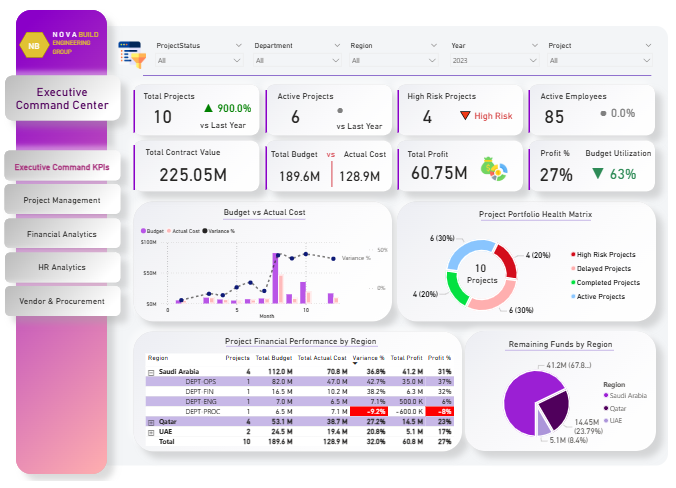

This screenshot's page, from the dashboard's own definition file:
{"tool":"powerbi","page":{"name":"Executive Command KPIs","canvas":[1380,980],"ordinal":0},"visuals":[{"type":"shape","box":[63.9,68.1,61.9,51.5],"z":0,"group":"g3"},{"type":"cardVisual","fields":{"Data":["Measures Table.Total Projects"]},"box":[287.2,174.4,125.6,100],"z":0},{"type":"cardVisual","title":"Projects","fields":{"Data":["Measures Table.Total Projects"]},"box":[946.8,501.3,81,58.2],"z":0,"group":"g1"},{"type":"textbox","box":[74.2,80.4,40.2,35.1],"z":1000,"group":"g3"},{"type":"slicer","fields":{"Values":["DimDate.Year"]},"box":[916,83,198.9,59.1],"z":1000},{"type":"textbox","box":[946.8,548.1,89.8,34.8],"z":1000,"group":"g1"},{"type":"textbox","box":[125.8,58.8,121.6,60.8],"z":2000,"group":"g3"},{"type":"cardVisual","fields":{"Data":["Measures Table.YoY Project Growth Display"]},"box":[413.3,174.7,149.4,83.1],"z":2000},{"type":"textbox","box":[308.3,180.2,199,35.4],"z":3000},{"type":"textbox","box":[408.2,238.8,128.2,35.3],"z":4000},{"type":"cardVisual","fields":{"Data":["Measures Table.Active Projects"]},"box":[552.9,174.1,130.6,100],"z":5000},{"type":"cardVisual","fields":{"Data":["Measures Table.YoY Active Projects Growth Display"]},"box":[681.7,179.5,132.5,77.1],"z":6000,"group":"g2"},{"type":"textbox","box":[575,180.2,124,35.4],"z":6000},{"type":"cardVisual","fields":{"Data":["Measures Table.High Risk Projects"]},"box":[816.5,174.1,130.6,100],"z":7000},{"type":"cardVisual","fields":{"Data":["Measures Table.High Risk Projects Display"]},"box":[926,191.7,144.8,75],"z":8000},{"type":"textbox","box":[683.6,239,122.1,32.4],"z":8000,"group":"g2"},{"type":"textbox","box":[835.4,180.2,197.9,35.4],"z":9000},{"type":"cardVisual","fields":{"Data":["Measures Table.Active Employees"]},"box":[1078.2,174.4,114.1,100],"z":10000},{"type":"cardVisual","fields":{"Data":["Measures Table.YoY Employee Growth Display"]},"box":[1207.1,182.4,123.5,84.7],"z":11000},{"type":"textbox","box":[1102.1,180.2,152.1,35.4],"z":12000},{"type":"cardVisual","fields":{"Data":["Measures Table.Total Contract Value"]},"box":[287.5,284.4,249,105.2],"z":13000},{"type":"textbox","box":[312.5,292.7,224,33.3],"z":14000},{"type":"cardVisual","fields":{"Data":["Measures Table.Total Actual Cost"]},"box":[675.3,292.9,137.6,96.5],"z":15000},{"type":"textbox","box":[554.1,295.3,258.8,30.6],"z":16000},{"type":"cardVisual","fields":{"Data":["Measures Table.Project Profit"]},"box":[816.5,292.9,258.8,96.5],"z":17000},{"type":"cardVisual","fields":{"Data":["Measures Table.Profit Margin %"]},"box":[1078.2,292.3,121.8,97.4],"z":18000},{"type":"textbox","box":[836.2,295.7,198.9,30.9],"z":19000},{"type":"textbox","box":[1102.1,294.7,76.6,30.9],"z":20000},{"type":"cardVisual","fields":{"Data":["Measures Table.Total Budget"]},"box":[552.9,292.9,145.9,96.5],"z":21000},{"type":"cardVisual","fields":{"Data":["Measures Table.Project Budget Utilization Display"]},"box":[1183,307.4,141.5,77.7],"z":22000},{"type":"textbox","box":[1192.6,294.7,154.3,30.9],"z":23000},{"type":"slicer","fields":{"Values":["DimRegion.Region"]},"box":[714.9,83,198.9,59.1],"z":24000},{"type":"donutChart","fields":{"Y":["Measures Table.High Risk Projects","Measures Table.Delayed Projects","Measures Table.Completed Projects","Measures Table.Active Projects"]},"box":[807.6,453.2,526.6,200],"z":25000},{"type":"group","id":"g1","title":"Group 1","box":[946.8,501.3,88.6,81],"z":26000},{"type":"lineClusteredColumnComboChart","fields":{"Category":["DimDate.Month"],"Y":["Measures Table.Total Budget","Measures Table.Total Actual Cost"],"Y2":["Measures Table.Variance %"]},"box":[301.1,445.6,504.4,200],"z":27000},{"type":"pivotTable","fields":{"Rows":["DimRegion.Region","DimProjects.DepartmentID"],"Values":["Measures Table.Total Projects","Measures Table.Total Budget","Measures Table.Total Actual Cost","Measures Table.Variance %","Measures Table.Project Profit","Measures Table.Profit Margin %"]},"box":[311.1,705.1,634.3,202],"z":28000},{"type":"pieChart","fields":{"Category":["DimRegion.Region"],"Y":["Measures Table.Budget Remaining"]},"box":[959.6,713.8,374.5,193.6],"z":29000},{"type":"slicer","fields":{"Values":["DimProjects.DepartmentID"]},"box":[521.7,83,197.7,59.1],"z":30000},{"type":"slicer","fields":{"Values":["DimProjects.ProjectStatus"]},"box":[325.1,83,196.6,59.1],"z":31000},{"type":"pageNavigator","box":[34.6,307.7,232.1,329.5],"z":32000},{"type":"textbox","box":[34.4,168.9,232.8,82],"z":33000},{"type":"group","id":"g2","title":"Group 2","box":[681.7,179.5,132.5,91.9],"z":34000},{"type":"shape","box":[681.2,326,15.6,52.1],"z":35000},{"type":"textbox","box":[306.4,412.8,498.9,33],"z":36000},{"type":"textbox","box":[848.1,415.2,498.7,32.9],"z":37000},{"type":"textbox","box":[959.6,676.6,374.5,33],"z":38000},{"type":"textbox","box":[310.6,670.2,635.1,33],"z":39000},{"type":"shape","box":[987.3,417.7,220.3,53.2],"z":40000},{"type":"shape","box":[472.2,415.2,164.6,53.2],"z":41000},{"type":"shape","box":[1036.7,678.5,217.7,53.2],"z":42000},{"type":"shape","box":[477.1,670.6,303.7,53.2],"z":43000},{"type":"slicer","fields":{"Values":["DimProjects.ProjectName"]},"box":[1110.4,83,231.8,59.1],"z":44000},{"type":"image","box":[256.8,83,68.2,64.8],"z":45000},{"type":"group","id":"g3","title":"Group 3","box":[63.9,58.8,183.5,60.8],"z":46000},{"type":"shape","box":[311.7,140,1016.7,30],"z":47000}]}

Visuals, with their boxes on the page's 1380x980 design canvas (x1, y1, x2, y2). These are canvas units, not pixel positions in the 676x488 screenshot, which may show the page scaled, cropped or inside an application window:
shape: bbox=(64, 68, 126, 120)
cardVisual - Measures Table.Total Projects: bbox=(287, 174, 413, 274)
"Projects" cardVisual: bbox=(947, 501, 1028, 560)
textbox: bbox=(74, 80, 114, 116)
slicer - DimDate.Year: bbox=(916, 83, 1115, 142)
textbox: bbox=(947, 548, 1037, 583)
textbox: bbox=(126, 59, 247, 120)
cardVisual - Measures Table.YoY Project Growth Display: bbox=(413, 175, 563, 258)
textbox: bbox=(308, 180, 507, 216)
textbox: bbox=(408, 239, 536, 274)
cardVisual - Measures Table.Active Projects: bbox=(553, 174, 684, 274)
cardVisual - Measures Table.YoY Active Projects Growth Display: bbox=(682, 180, 814, 257)
textbox: bbox=(575, 180, 699, 216)
cardVisual - Measures Table.High Risk Projects: bbox=(816, 174, 947, 274)
cardVisual - Measures Table.High Risk Projects Display: bbox=(926, 192, 1071, 267)
textbox: bbox=(684, 239, 806, 271)
textbox: bbox=(835, 180, 1033, 216)
cardVisual - Measures Table.Active Employees: bbox=(1078, 174, 1192, 274)
cardVisual - Measures Table.YoY Employee Growth Display: bbox=(1207, 182, 1331, 267)
textbox: bbox=(1102, 180, 1254, 216)
cardVisual - Measures Table.Total Contract Value: bbox=(288, 284, 536, 390)
textbox: bbox=(312, 293, 536, 326)
cardVisual - Measures Table.Total Actual Cost: bbox=(675, 293, 813, 389)
textbox: bbox=(554, 295, 813, 326)
cardVisual - Measures Table.Project Profit: bbox=(816, 293, 1075, 389)
cardVisual - Measures Table.Profit Margin %: bbox=(1078, 292, 1200, 390)
textbox: bbox=(836, 296, 1035, 327)
textbox: bbox=(1102, 295, 1179, 326)
cardVisual - Measures Table.Total Budget: bbox=(553, 293, 699, 389)
cardVisual - Measures Table.Project Budget Utilization Display: bbox=(1183, 307, 1324, 385)
textbox: bbox=(1193, 295, 1347, 326)
slicer - DimRegion.Region: bbox=(715, 83, 914, 142)
donutChart - Measures Table.High Risk Projects x Measures Table.Delayed Projects: bbox=(808, 453, 1334, 653)
"Group 1" group: bbox=(947, 501, 1035, 582)
lineClusteredColumnComboChart - DimDate.Month x Measures Table.Total Budget: bbox=(301, 446, 806, 646)
pivotTable - DimRegion.Region x DimProjects.DepartmentID: bbox=(311, 705, 945, 907)
pieChart - DimRegion.Region x Measures Table.Budget Remaining: bbox=(960, 714, 1334, 907)
slicer - DimProjects.DepartmentID: bbox=(522, 83, 719, 142)
slicer - DimProjects.ProjectStatus: bbox=(325, 83, 522, 142)
pageNavigator: bbox=(35, 308, 267, 637)
textbox: bbox=(34, 169, 267, 251)
"Group 2" group: bbox=(682, 180, 814, 271)
shape: bbox=(681, 326, 697, 378)
textbox: bbox=(306, 413, 805, 446)
textbox: bbox=(848, 415, 1347, 448)
textbox: bbox=(960, 677, 1334, 710)
textbox: bbox=(311, 670, 946, 703)
shape: bbox=(987, 418, 1208, 471)
shape: bbox=(472, 415, 637, 468)
shape: bbox=(1037, 678, 1254, 732)
shape: bbox=(477, 671, 781, 724)
slicer - DimProjects.ProjectName: bbox=(1110, 83, 1342, 142)
image: bbox=(257, 83, 325, 148)
"Group 3" group: bbox=(64, 59, 247, 120)
shape: bbox=(312, 140, 1328, 170)
